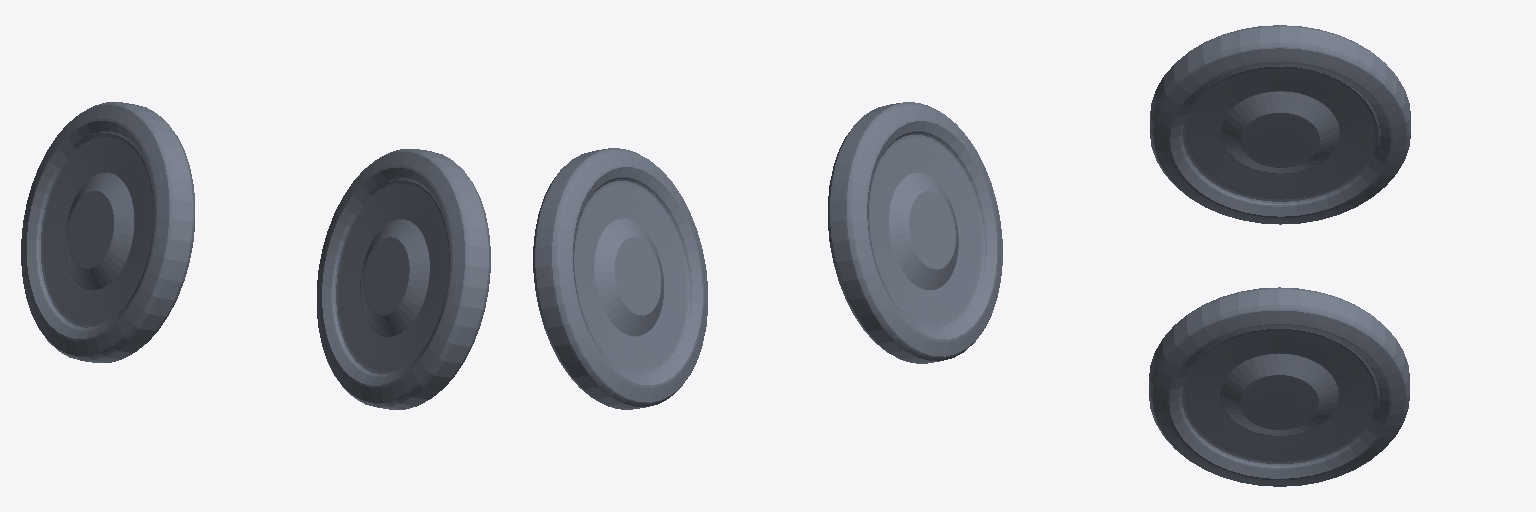
The model's file is weight_4_1.obj.
3 renders of one model, left to right at view 1: azimuth 30°, elevation 25°; view 2: azimuth 150°, elevation 25°; view 3: azimuth 270°, elevation 25°, orthographic.
Bounding box in the file's own units: 0.8952 × 0.7415 × 0.5098.